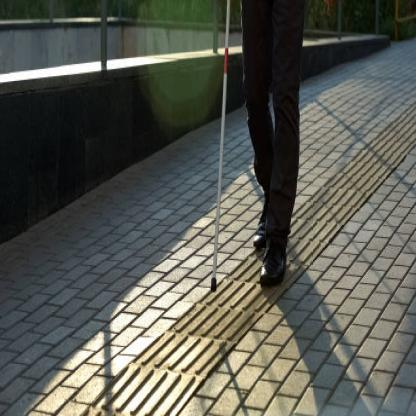podotacti: (82, 297, 259, 414)
